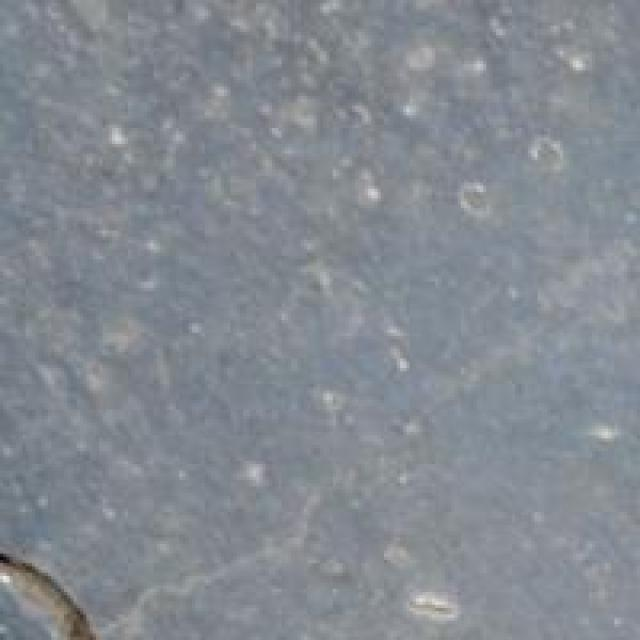Crack: (0, 489, 138, 636)
